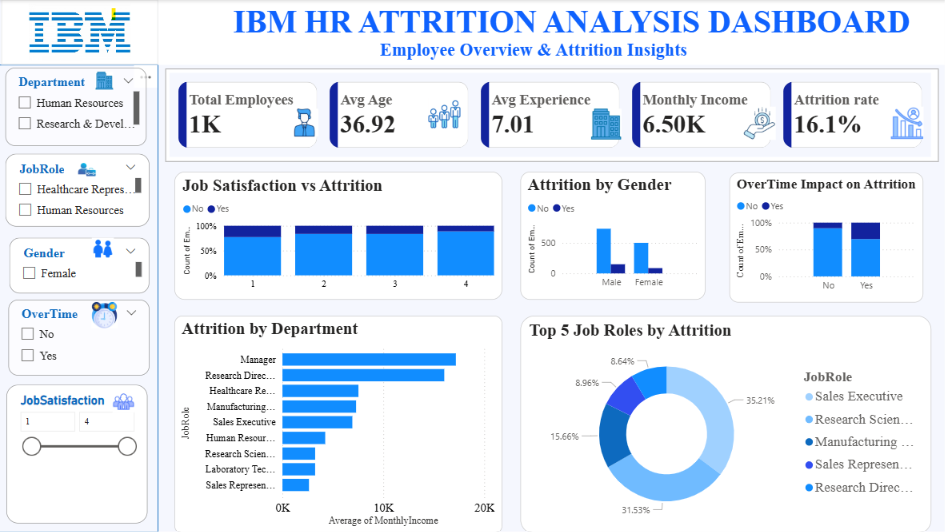

What the dashboard file says about the page in this screenshot:
{"tool":"powerbi","page":{"name":"dashboard","canvas":[1280,720],"ordinal":2},"visuals":[{"type":"cardVisual","title":" TOTAL EMPLOYEE          AVG MONTH INCOME","fields":{"Data":["WA_Fn-UseC_-HR-Employee-Attrition.Total Employees","WA_Fn-UseC_-HR-Employee-Attrition.Avg Age","WA_Fn-UseC_-HR-Employee-Attrition.Avg Years at Company","WA_Fn-UseC_-HR-Employee-Attrition.Avg Monthly Income","WA_Fn-UseC_-HR-Employee-Attrition.Attrition rate"]},"box":[225.3,93.1,1042.8,125.5],"z":0},{"type":"shape","box":[0,87.7,215.9,632.7],"z":1000},{"type":"hundredPercentStackedColumnChart","title":"Job Satisfaction vs Attrition","fields":{"Category":["WA_Fn-UseC_-HR-Employee-Attrition.JobSatisfaction"],"Series":["WA_Fn-UseC_-HR-Employee-Attrition.Attrition"],"Y":["CountNonNull(WA_Fn-UseC_-HR-Employee-Attrition.EmployeeNumber)"]},"box":[237.4,232,442.5,172.7],"z":2000},{"type":"clusteredColumnChart","title":"Attrition by Gender","fields":{"Category":["WA_Fn-UseC_-HR-Employee-Attrition.Gender"],"Y":["CountNonNull(WA_Fn-UseC_-HR-Employee-Attrition.EmployeeNumber)"],"Series":["WA_Fn-UseC_-HR-Employee-Attrition.Attrition"]},"box":[704.2,232,249.6,172.7],"z":3000},{"type":"clusteredBarChart","title":"Attrition by Department","fields":{"Category":["WA_Fn-UseC_-HR-Employee-Attrition.JobRole"],"Y":["Avg(WA_Fn-UseC_-HR-Employee-Attrition.MonthlyIncome)"]},"box":[237.4,426.3,442.5,294.1],"z":4000},{"type":"hundredPercentStackedColumnChart","title":"OverTime Impact on Attrition","fields":{"Category":["WA_Fn-UseC_-HR-Employee-Attrition.OverTime"],"Y":["CountNonNull(WA_Fn-UseC_-HR-Employee-Attrition.EmployeeNumber)"],"Series":["WA_Fn-UseC_-HR-Employee-Attrition.Attrition"]},"box":[986.2,233.4,261.7,175.4],"z":5000},{"type":"image","box":[4.1,0,211.3,87.8],"z":6000},{"type":"textbox","box":[215.4,0,1064.8,87.8],"z":7000},{"type":"slicer","fields":{"Values":["WA_Fn-UseC_-HR-Employee-Attrition.Department"]},"box":[9.4,91.7,190.2,105.2],"z":8000},{"type":"slicer","fields":{"Values":["WA_Fn-UseC_-HR-Employee-Attrition.JobRole"]},"box":[9.4,207.8,194.3,98.5],"z":9000},{"type":"slicer","fields":{"Values":["WA_Fn-UseC_-HR-Employee-Attrition.Gender"]},"box":[14.8,321.1,188.9,75.5],"z":10000},{"type":"slicer","fields":{"Values":["WA_Fn-UseC_-HR-Employee-Attrition.OverTime"]},"box":[13.5,404.7,190.2,102.5],"z":11000},{"type":"donutChart","title":"Top 5 Job Roles by Attrition","fields":{"Category":["WA_Fn-UseC_-HR-Employee-Attrition.JobRole"],"Y":["CountNonNull(WA_Fn-UseC_-HR-Employee-Attrition.EmployeeNumber)"]},"box":[704.2,426.3,554.5,294.1],"z":12000},{"type":"image","box":[130.9,87.7,24.3,43.2],"z":13000},{"type":"image","box":[125.5,404.7,35.1,41.8],"z":14000},{"type":"image","box":[95.8,217.2,47.2,24.3],"z":15000},{"type":"image","box":[113.3,321.1,55.3,29.7],"z":16000},{"type":"slicer","fields":{"Values":["WA_Fn-UseC_-HR-Employee-Attrition.JobSatisfaction"]},"box":[10.8,519.4,190.2,187.5],"z":18000},{"type":"image","box":[152.4,527.5,32.4,29.7],"z":19000},{"type":"image","box":[388.5,147,48.6,37.8],"z":20000},{"type":"image","box":[1002.4,144.4,48.6,44.5],"z":21000},{"type":"image","box":[796,147,48.6,41.8],"z":22000},{"type":"image","box":[580.1,132.2,43.2,44.5],"z":23000},{"type":"image","box":[1203.4,144.4,44.5,44.5],"z":24000}]}

Visuals, with their boxes in screenshot pixels (x1, y1, x2, y2), scaled from the page's 1280x720 canvas onto the 945x532 screenshot:
" TOTAL EMPLOYEE          AVG MONTH INCOME" cardVisual: <box>166,69,936,162</box>
shape: <box>0,65,159,531</box>
"Job Satisfaction vs Attrition" hundredPercentStackedColumnChart: <box>175,171,502,299</box>
"Attrition by Gender" clusteredColumnChart: <box>520,171,704,299</box>
"Attrition by Department" clusteredBarChart: <box>175,315,502,531</box>
"OverTime Impact on Attrition" hundredPercentStackedColumnChart: <box>728,172,921,302</box>
image: <box>3,0,159,65</box>
textbox: <box>159,0,944,65</box>
slicer - WA_Fn-UseC_-HR-Employee-Attrition.Department: <box>7,68,147,145</box>
slicer - WA_Fn-UseC_-HR-Employee-Attrition.JobRole: <box>7,154,150,226</box>
slicer - WA_Fn-UseC_-HR-Employee-Attrition.Gender: <box>11,237,150,293</box>
slicer - WA_Fn-UseC_-HR-Employee-Attrition.OverTime: <box>10,299,150,375</box>
"Top 5 Job Roles by Attrition" donutChart: <box>520,315,929,531</box>
image: <box>97,65,115,97</box>
image: <box>93,299,119,330</box>
image: <box>71,160,106,178</box>
image: <box>84,237,124,259</box>
slicer - WA_Fn-UseC_-HR-Employee-Attrition.JobSatisfaction: <box>8,384,148,522</box>
image: <box>113,390,136,412</box>
image: <box>287,109,323,137</box>
image: <box>740,107,776,140</box>
image: <box>588,109,624,140</box>
image: <box>428,98,460,131</box>
image: <box>888,107,921,140</box>
